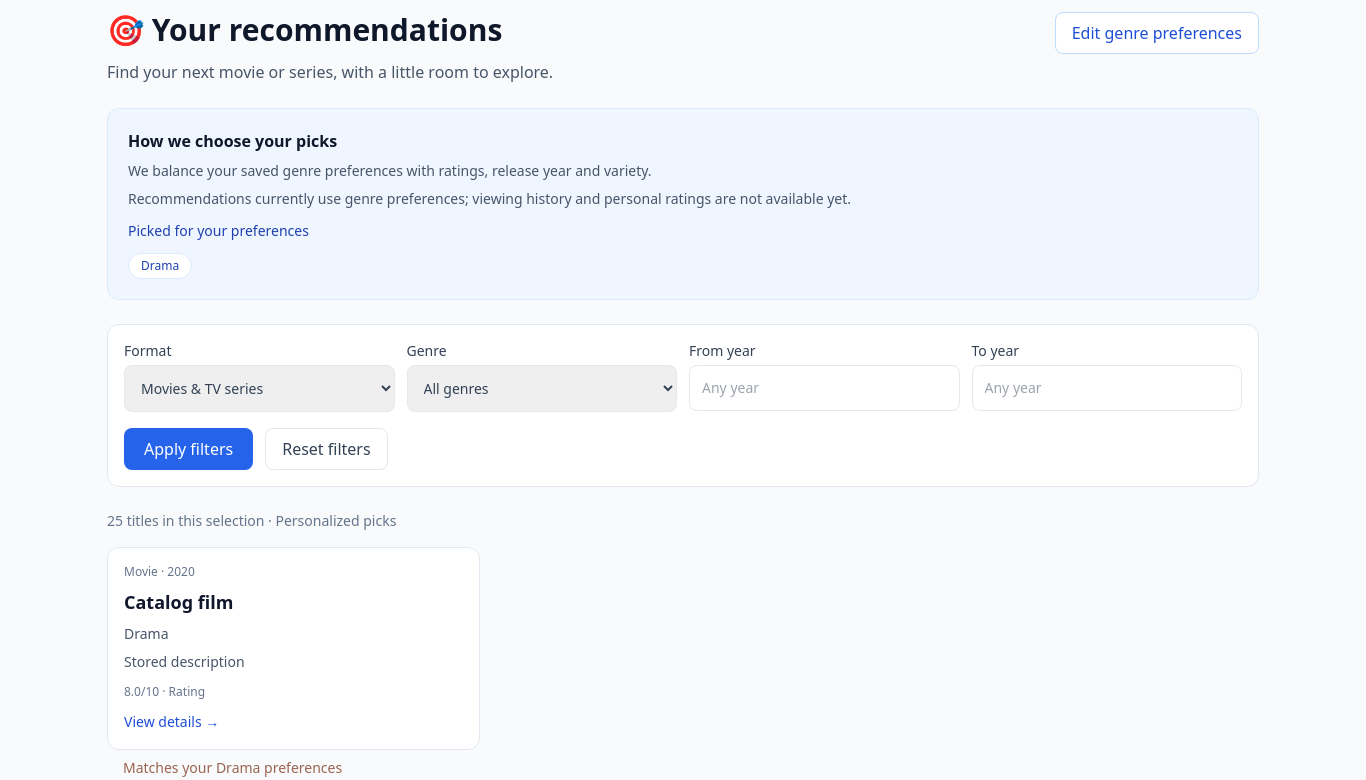
Test: recommendations page › rejects reversed year ranges without issuing a request
Expected: the heading "Catalog film" is shown, [124,590,233,614]
Type "2025" into the number field labelled "From year".
click(824, 388); type("2025")  # box [689,365,960,411]
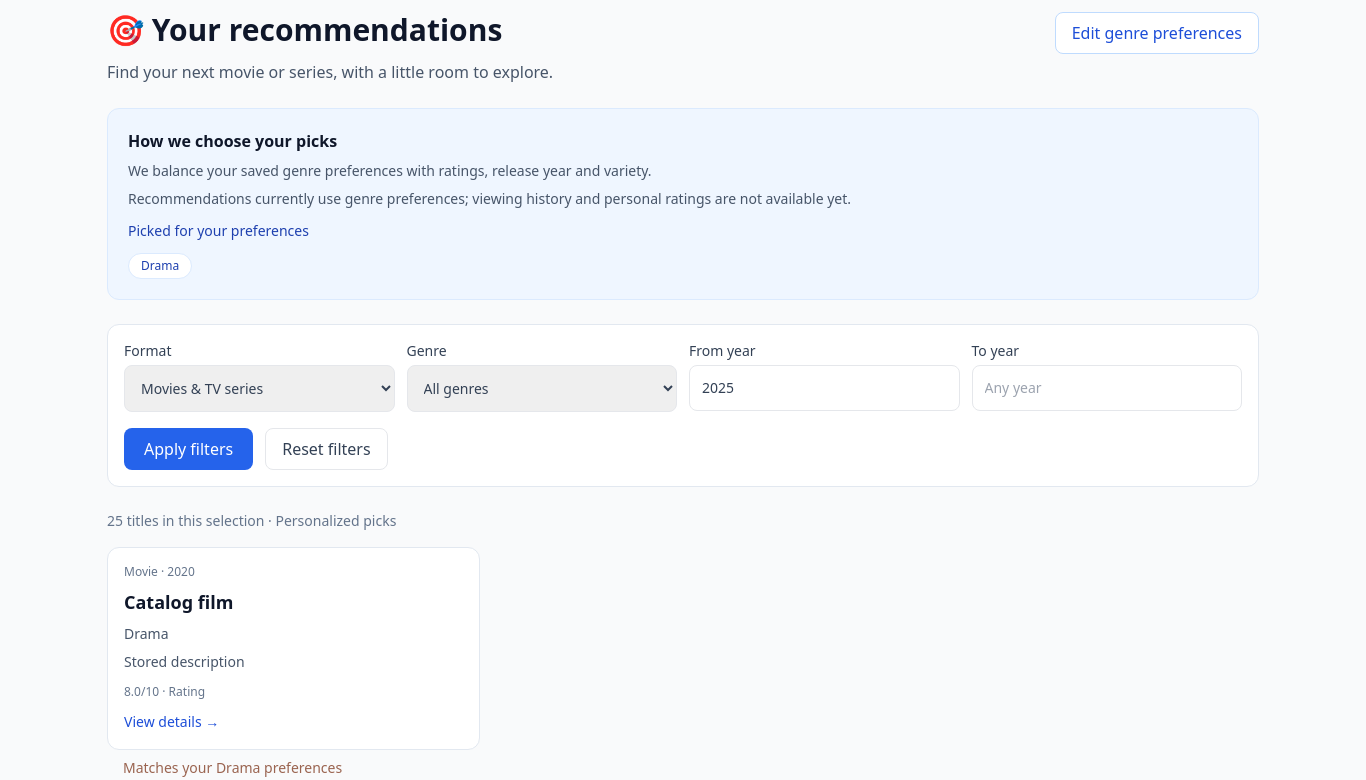
Type "2000" into the number field labelled "To year".
click(1107, 388); type("2000")  # box [972,365,1242,411]
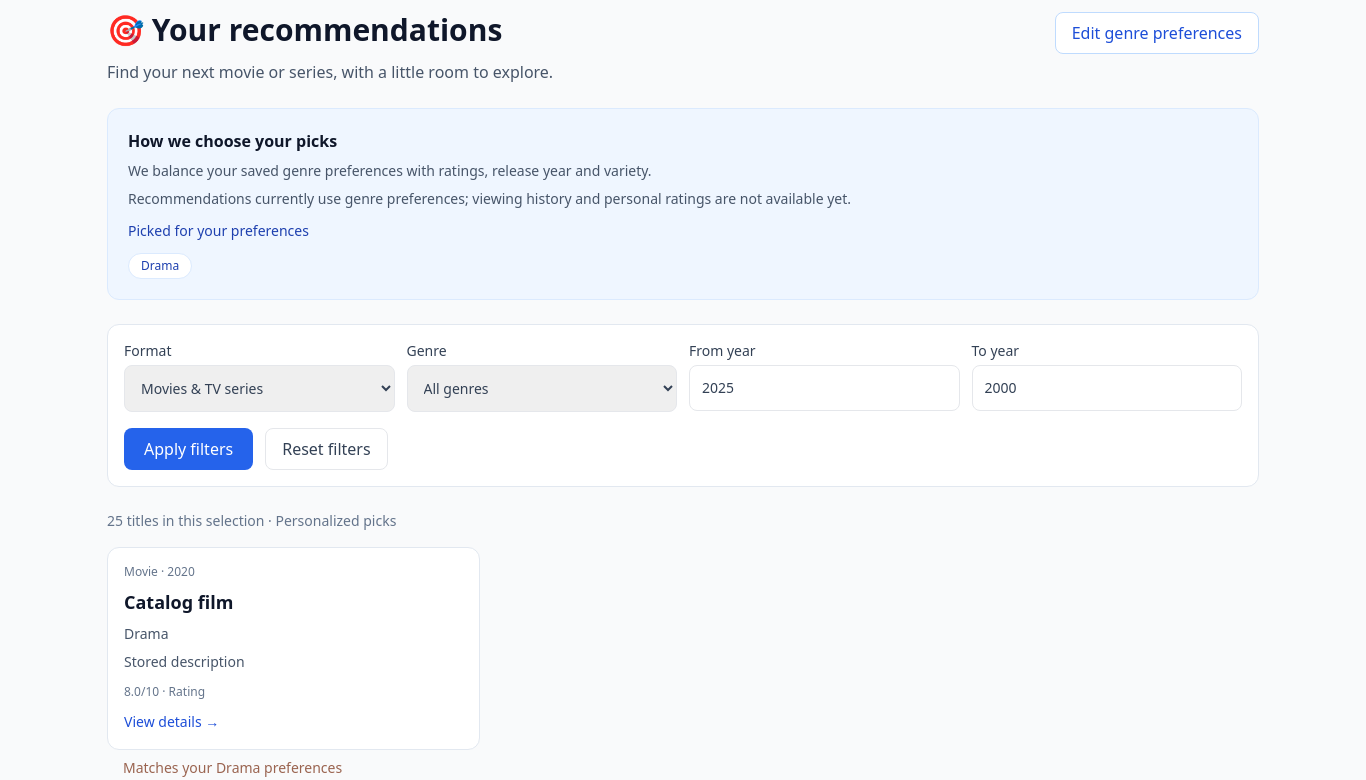
Click the button "Apply filters".
click(189, 449)  # box [124,428,253,470]
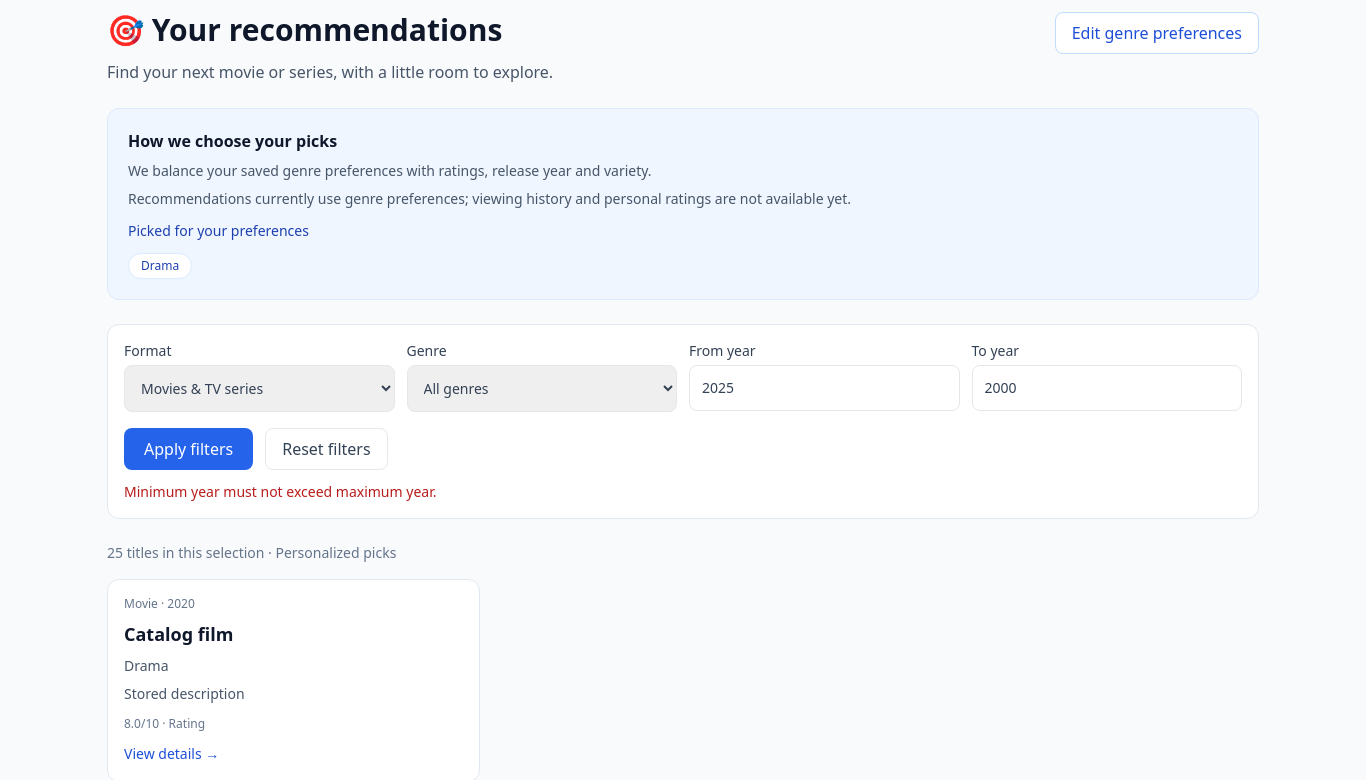
Result: the message shows "Minimum year" at [124,482,436,501]
